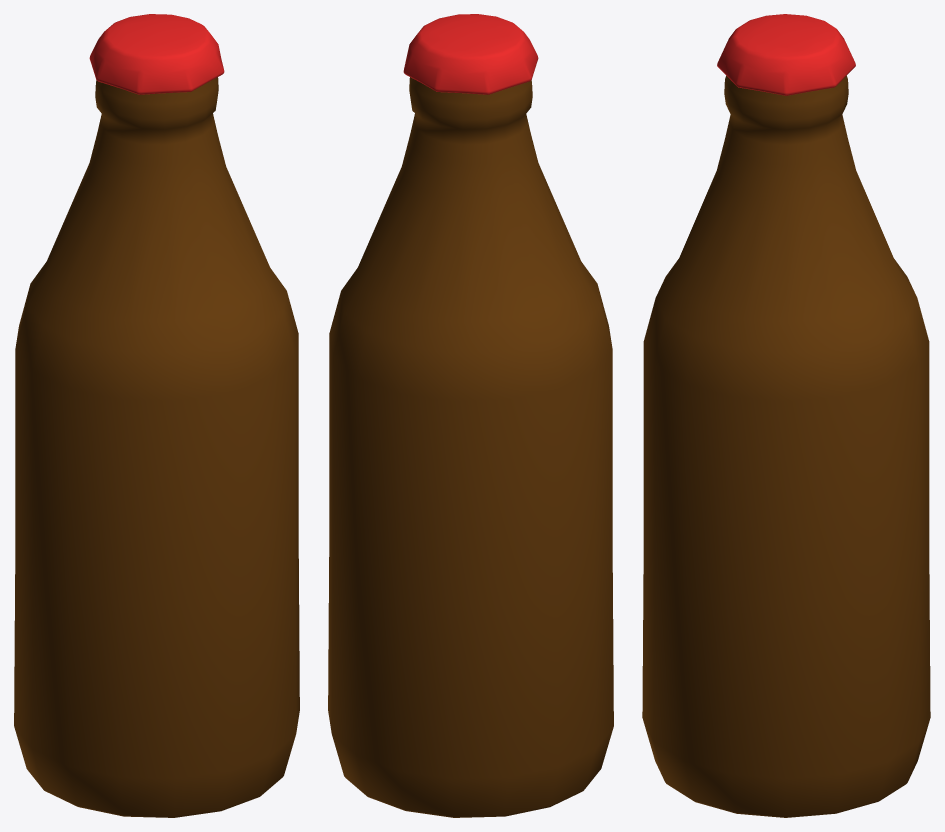
The model's file is BottleSimple.glb.
3 renders of one model, left to right at view 1: azimuth 30°, elevation 25°; view 2: azimuth 150°, elevation 25°; view 3: azimuth 270°, elevation 25°, orthographic.
Parts seen in each view (by area): view 1: Vert.010; view 2: Vert.010; view 3: Vert.010.
Part boxes in pixels (bbox=[...]): Vert.010: bbox=[14, 14, 299, 817]; Vert.010: bbox=[328, 14, 613, 817]; Vert.010: bbox=[642, 14, 930, 817].
Bounding box in the file's own units: 0.1512 × 0.4252 × 0.1512.
